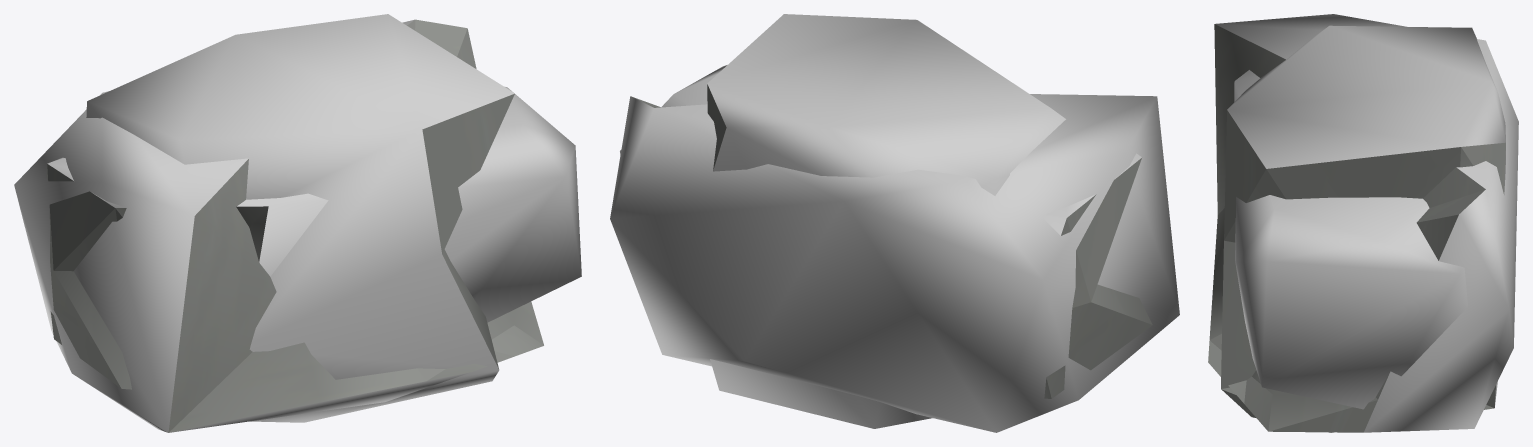
Rendered from Brick_Debris.fbx.
The picture shows the model from 3 angles, left to right: view 1: azimuth 30°, elevation 25°; view 2: azimuth 150°, elevation 25°; view 3: azimuth 270°, elevation 25°; orthographic projection. The views are drawn at different scales.
Parts seen in each view (by area): view 1: Brick_Debris1, Brick_Debris3, Brick_Debris2; view 2: Brick_Debris3, Brick_Debris1, Brick_Debris2; view 3: Brick_Debris1, Brick_Debris2, Brick_Debris3.
Part boxes in pixels (x1,y1,x2,y2): Brick_Debris1: [86, 14, 514, 422]; Brick_Debris3: [14, 19, 543, 432]; Brick_Debris2: [46, 86, 581, 389]; Brick_Debris3: [610, 94, 1179, 432]; Brick_Debris1: [707, 14, 1065, 428]; Brick_Debris2: [620, 65, 1152, 398]; Brick_Debris1: [1221, 25, 1505, 432]; Brick_Debris2: [1234, 70, 1467, 409]; Brick_Debris3: [1208, 14, 1518, 432].
Size of the model in its own units: 93.87 by 58.33 by 58.86.
